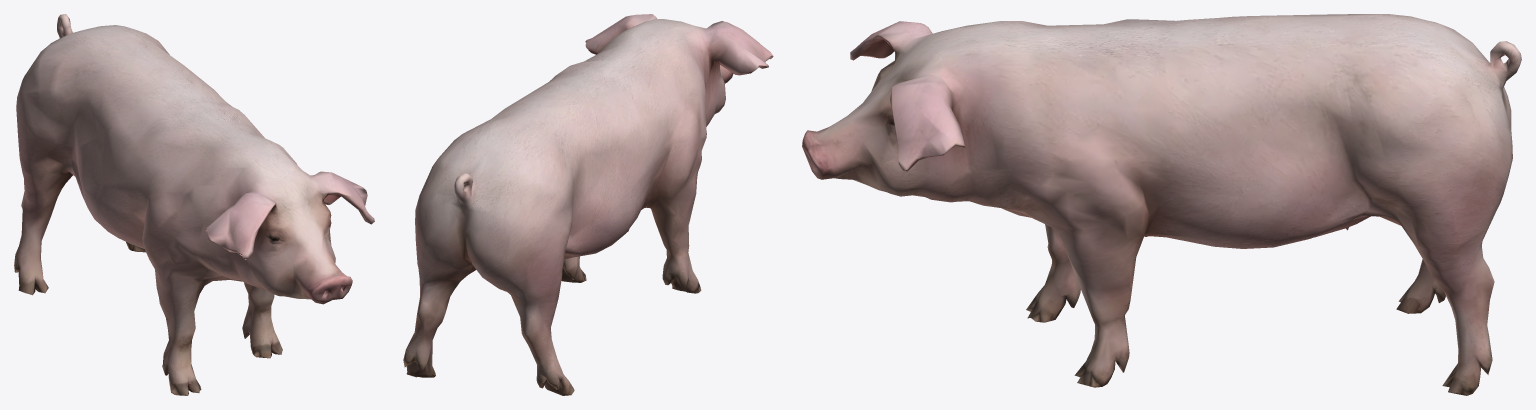
File: animal_pig.glb
3 views of the same model, side by side, from view 1: azimuth 30°, elevation 25°; view 2: azimuth 150°, elevation 25°; view 3: azimuth 270°, elevation 25° (orthographic). The views are drawn at different scales.
Visible parts, largest first — view 1: tripo_node_b1ce0631-5327-44a8-a035-22972029aead; view 2: tripo_node_b1ce0631-5327-44a8-a035-22972029aead; view 3: tripo_node_b1ce0631-5327-44a8-a035-22972029aead.
Part boxes in pixels (left/top/right/bottom): tripo_node_b1ce0631-5327-44a8-a035-22972029aead: left=14, top=14, right=374, bottom=395; tripo_node_b1ce0631-5327-44a8-a035-22972029aead: left=403, top=14, right=773, bottom=395; tripo_node_b1ce0631-5327-44a8-a035-22972029aead: left=802, top=14, right=1521, bottom=395.
Bounding box in the file's own units: 0.3583 × 0.4877 × 0.9803.
1 material, 1 textured.
